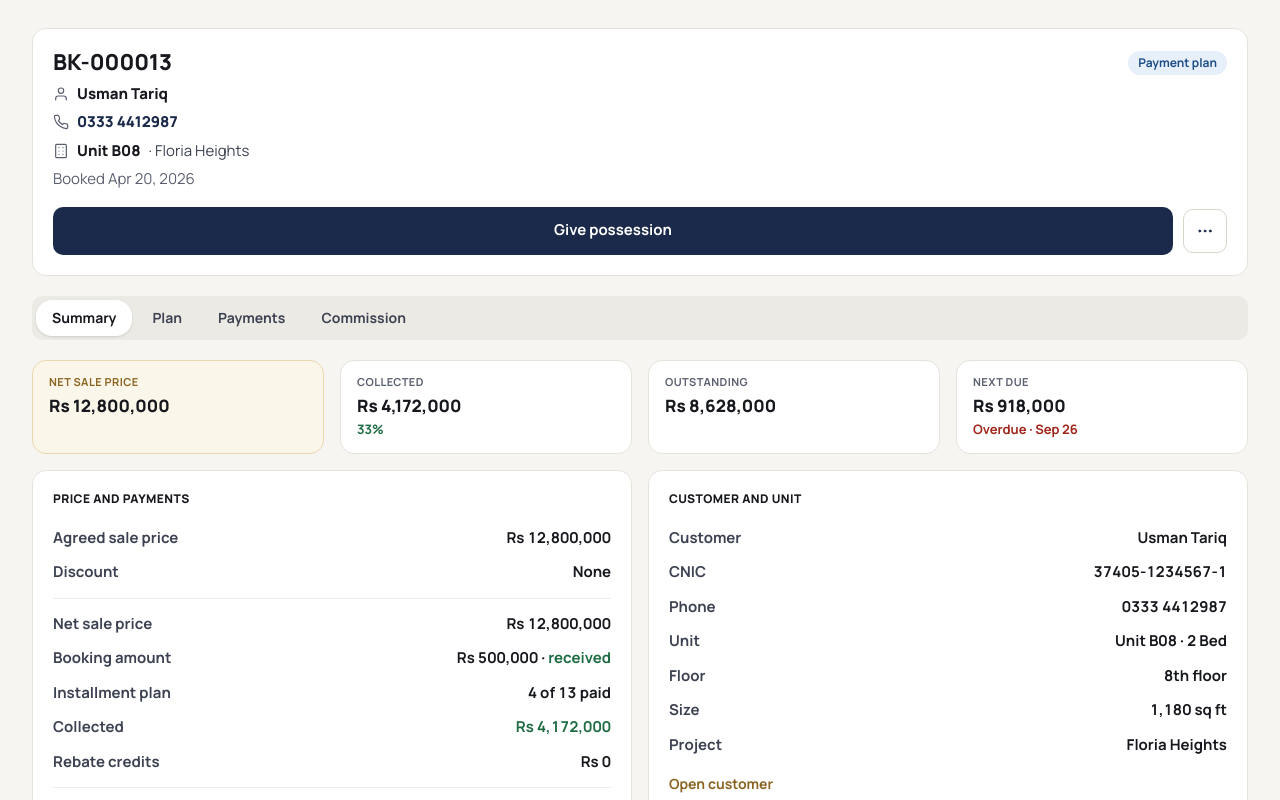
Test case: the header › phone: one main button and ⋯, whose sheet holds Print and Cancel
Expected: the heading "BK-000013" is shown, [53, 49, 172, 76]
Expected: the button "Give possession" is shown, [53, 206, 1173, 254]
Click the button named "More actions" at (1205, 230), box [1183, 208, 1227, 252]
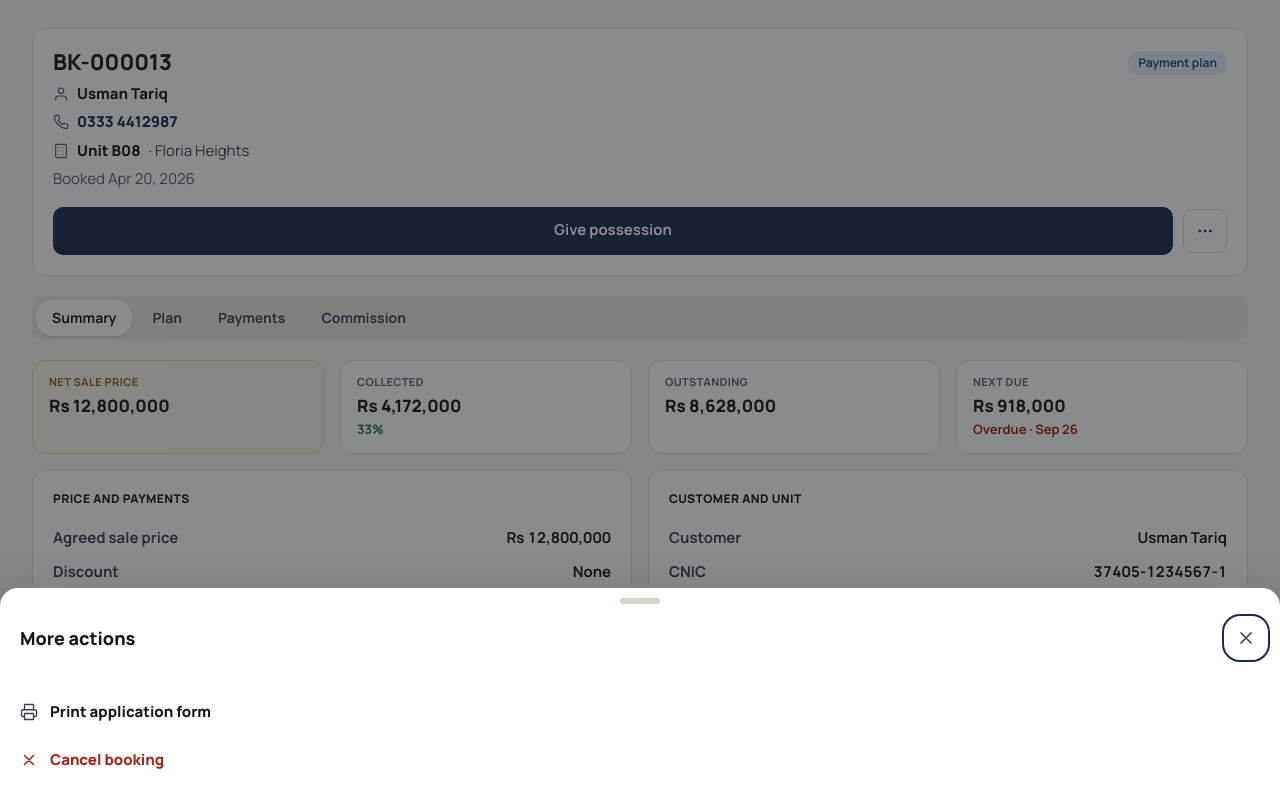
Expected: the button "Print application form" is shown, [20, 688, 1260, 736]
Expected: the button "Cancel booking" is shown, [20, 736, 1260, 784]
